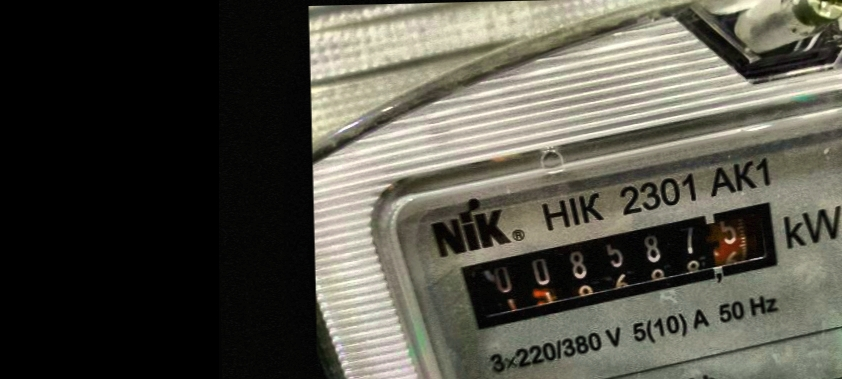0: (529, 252, 555, 287), (491, 261, 517, 294)
5: (604, 237, 628, 269), (718, 213, 740, 244)
6: (723, 247, 742, 265)
7: (679, 222, 702, 257)
8: (567, 247, 592, 280), (641, 230, 665, 264)
screen: (452, 200, 802, 331)
